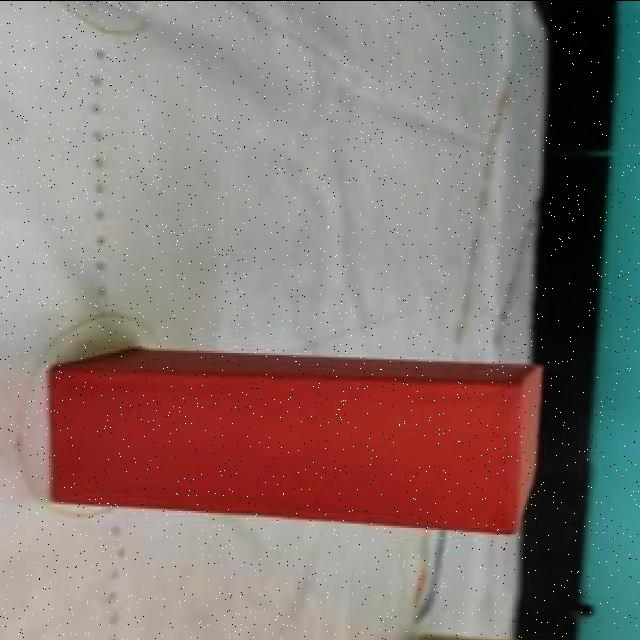redbox: (54, 348, 544, 534)
